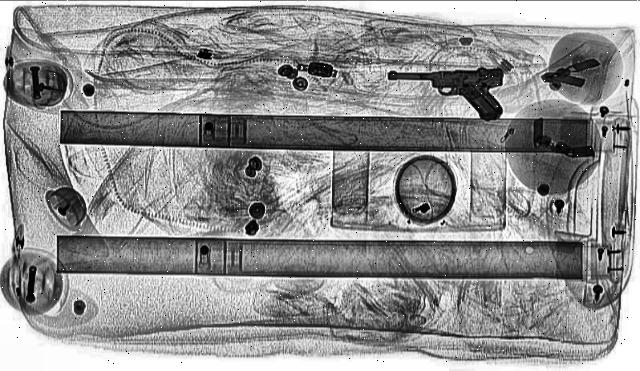Gun: (385, 68, 505, 120)
